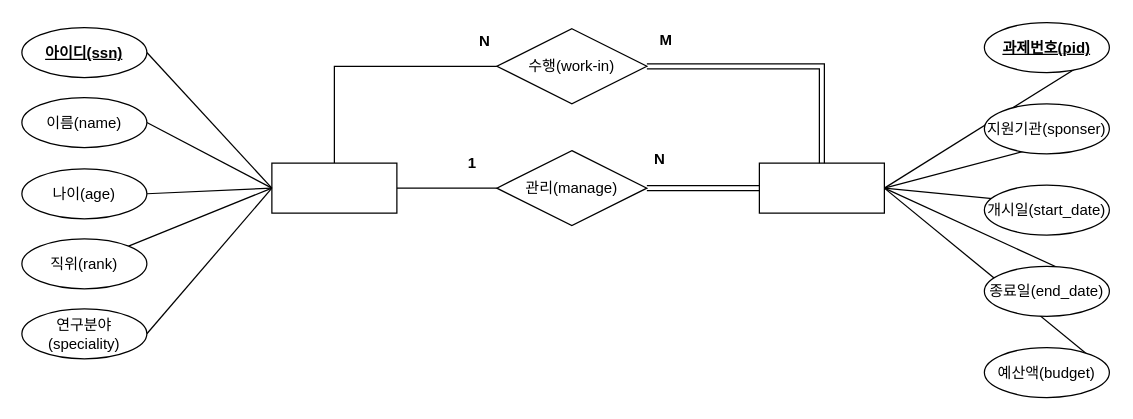
Some shapes in this 1133 by 419 pixel diagram are drawn without their labels. Each missing label, with the centre of its shape:
과제(Project): (821,187)
교수(Professor): (334,187)
